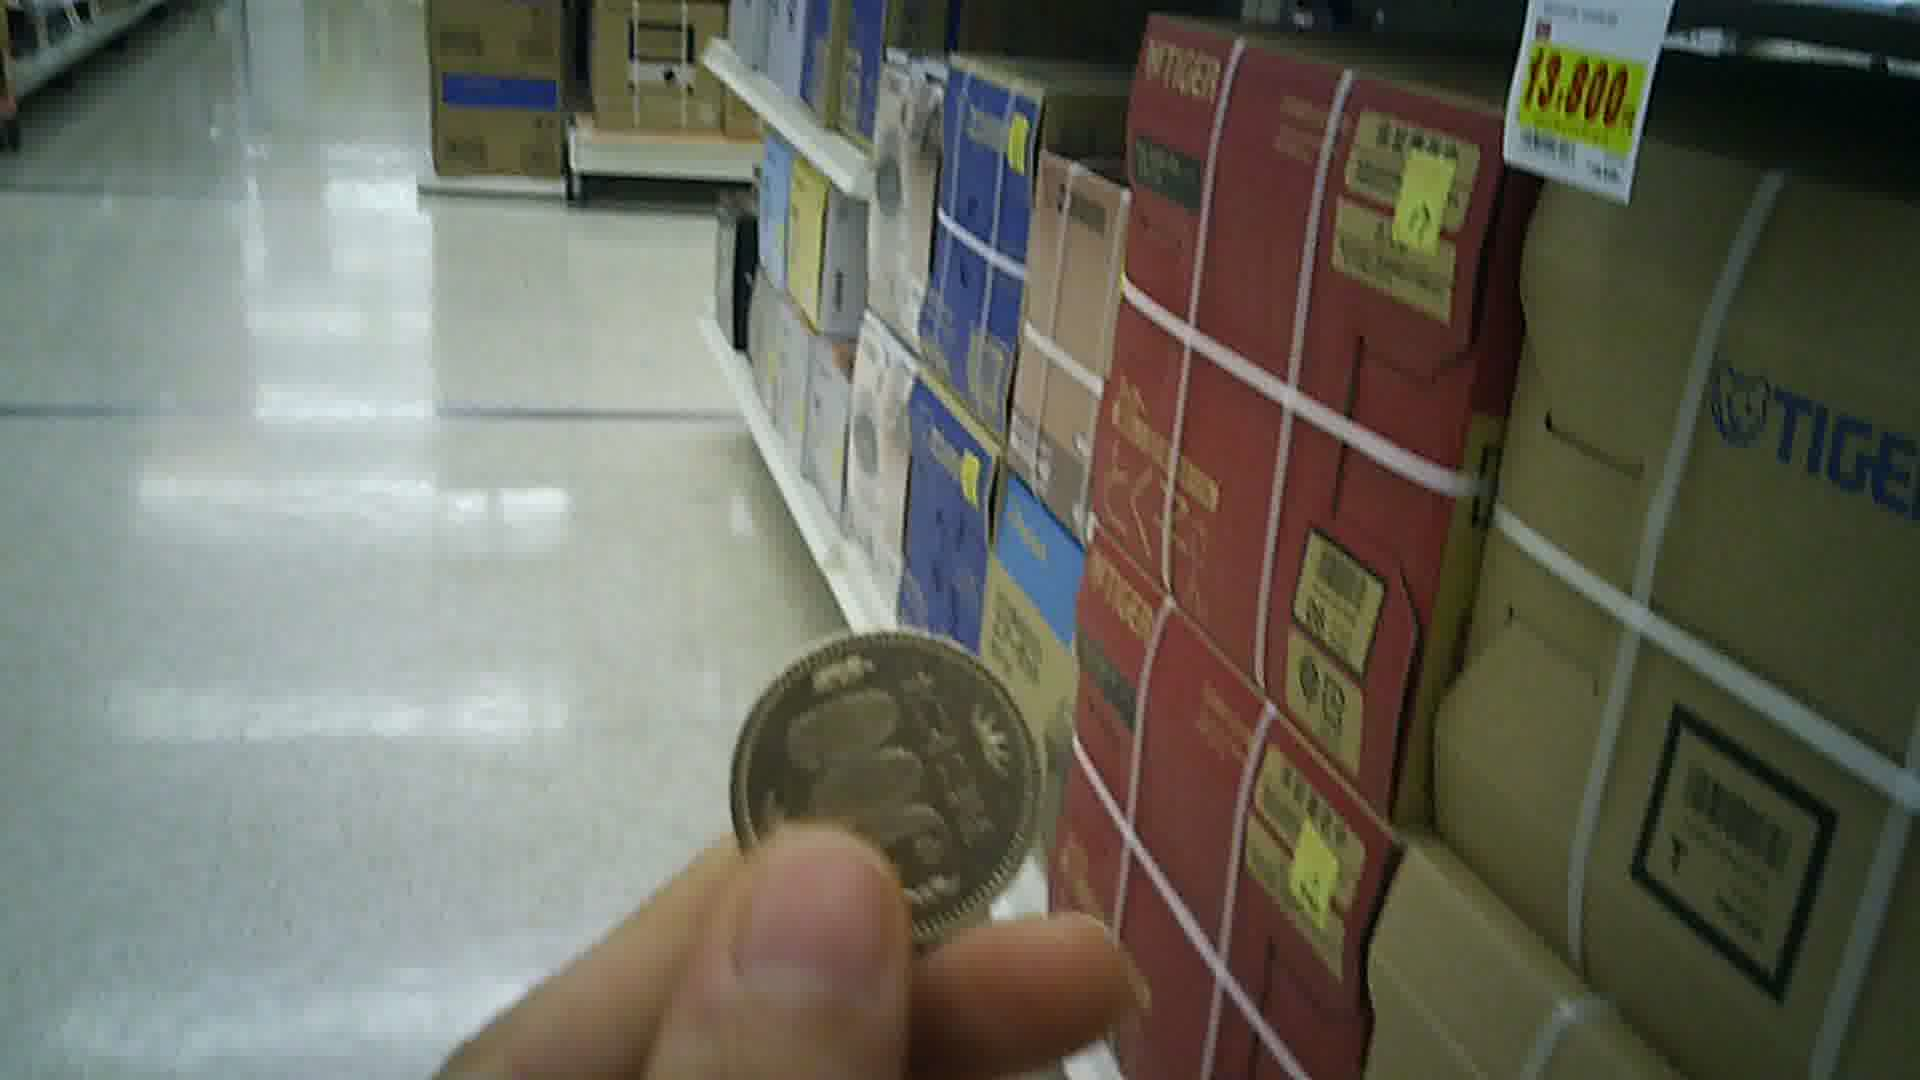500 Yen: (729, 630, 1056, 942)
